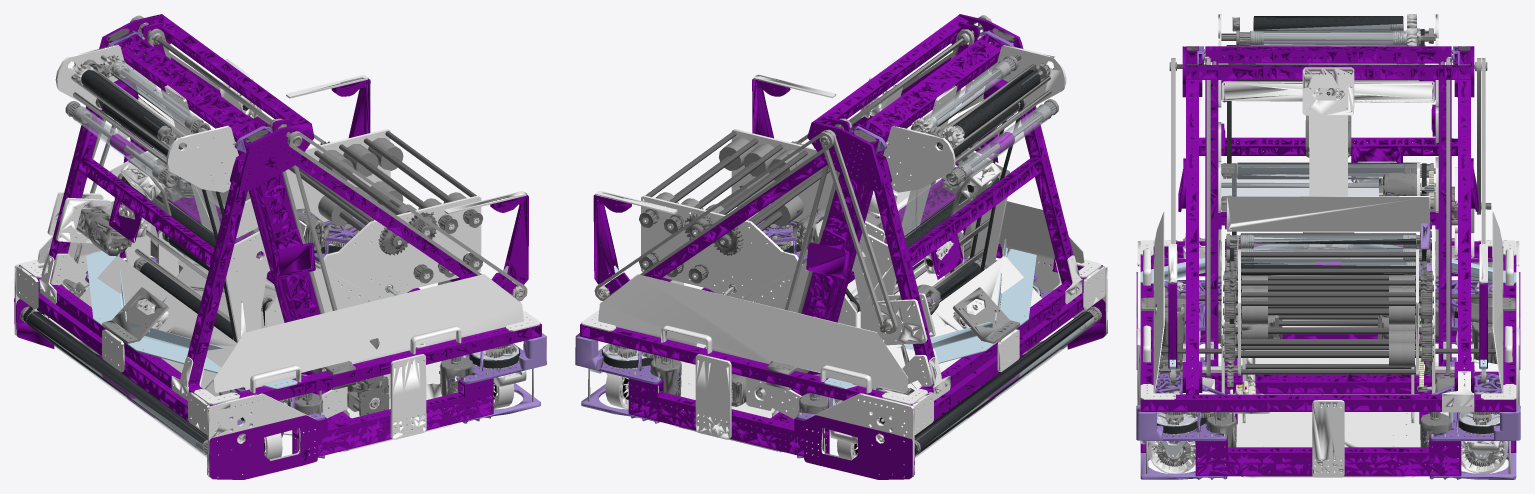
Rendered from ultraviolet-3847.glb.
3 renders of one model, left to right at view 1: azimuth 30°, elevation 25°; view 2: azimuth 150°, elevation 25°; view 3: azimuth 270°, elevation 25°, orthographic.
Parts seen in each view (by area): view 1: frame, amp, shooter, climber; view 2: frame, amp, shooter, climber; view 3: frame, amp, shooter, climber.
Part boxes in pixels (bbox=[...]): frame: bbox=[14, 14, 546, 479]; amp: bbox=[55, 34, 315, 374]; shooter: bbox=[286, 129, 483, 299]; climber: bbox=[163, 53, 477, 279]; frame: bbox=[575, 14, 1107, 479]; amp: bbox=[806, 34, 1066, 374]; shooter: bbox=[639, 129, 836, 299]; climber: bbox=[643, 53, 958, 279]; frame: bbox=[1136, 46, 1520, 479]; amp: bbox=[1178, 14, 1478, 375]; shooter: bbox=[1222, 249, 1434, 375]; climber: bbox=[1186, 80, 1470, 394].
Size of the model in its own units: 0.7515 by 0.6887 by 0.7536.
